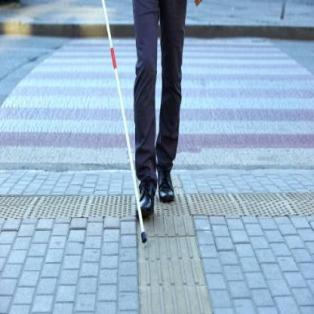Podoctatil: (0, 170, 312, 314)
